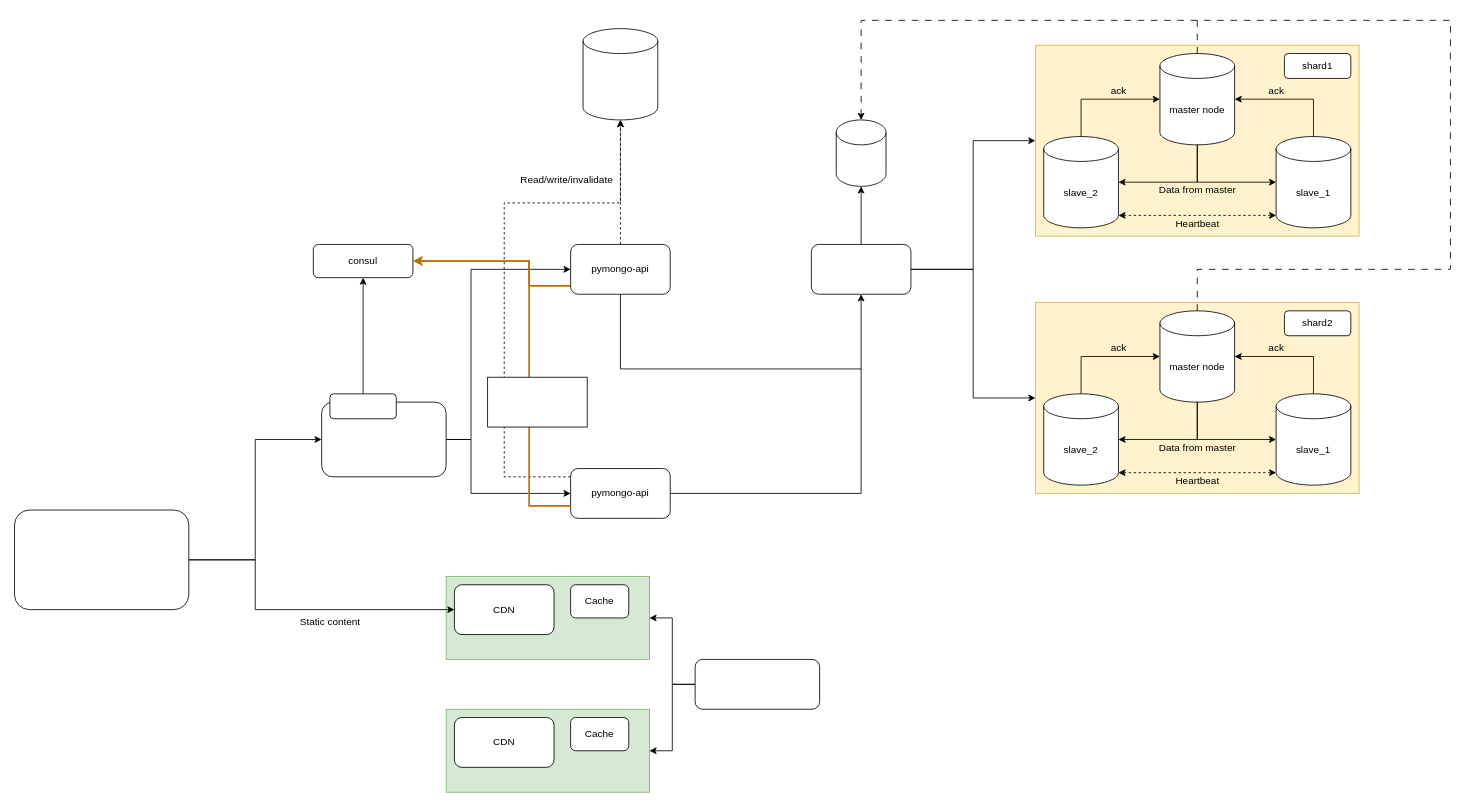
The diagram is 1472 pixels wide and 807 high, and some of its shapes have lost their labels. Here are the shapes that lost their labels. From the top down, the box of each, then its label:
(582, 28, 658, 120): Redis
(835, 119, 886, 186): configSrv
(810, 244, 911, 294): mongos_router
(329, 393, 396, 419): consul_kv
(321, 401, 446, 477): API Gateway
(14, 509, 189, 610): WEBSITE
(694, 659, 820, 709): Main Server
